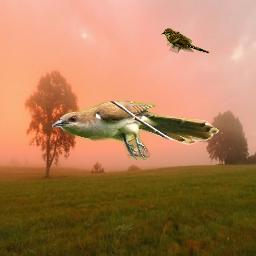Cuckoo: (52, 101, 220, 160), (161, 28, 210, 54)
